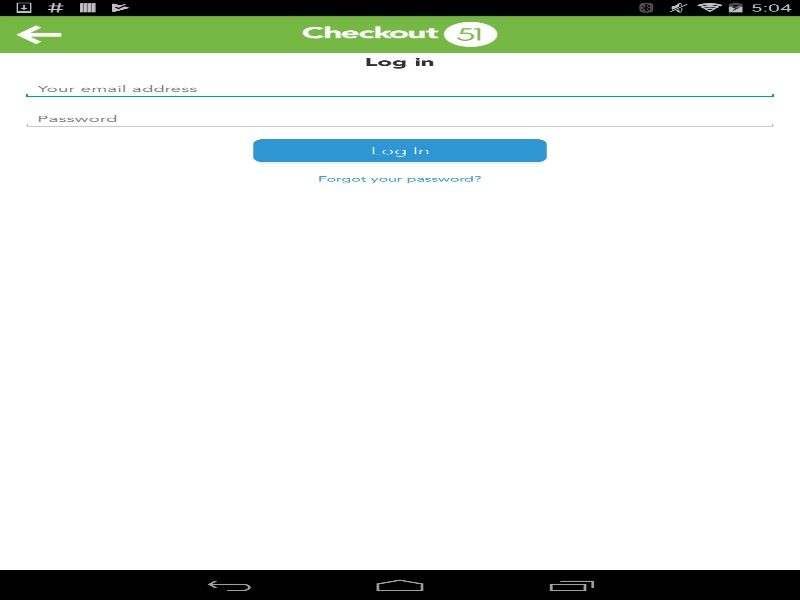Button: (253, 139, 546, 164)
Input: (21, 79, 778, 99), (21, 109, 778, 129)
